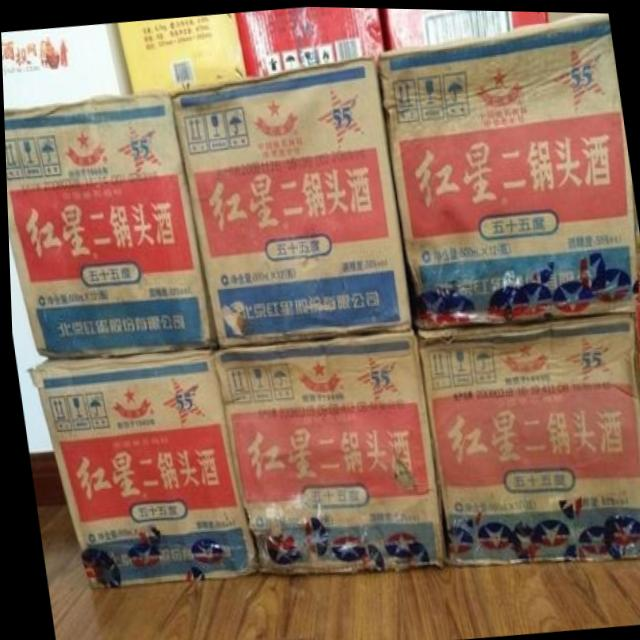box: (379, 10, 635, 326), (169, 53, 408, 345), (210, 328, 445, 574), (3, 89, 217, 358), (415, 310, 640, 562), (26, 347, 254, 591), (1, 22, 131, 111), (117, 11, 246, 93), (235, 5, 383, 74), (378, 7, 549, 50), (629, 297, 640, 423)
